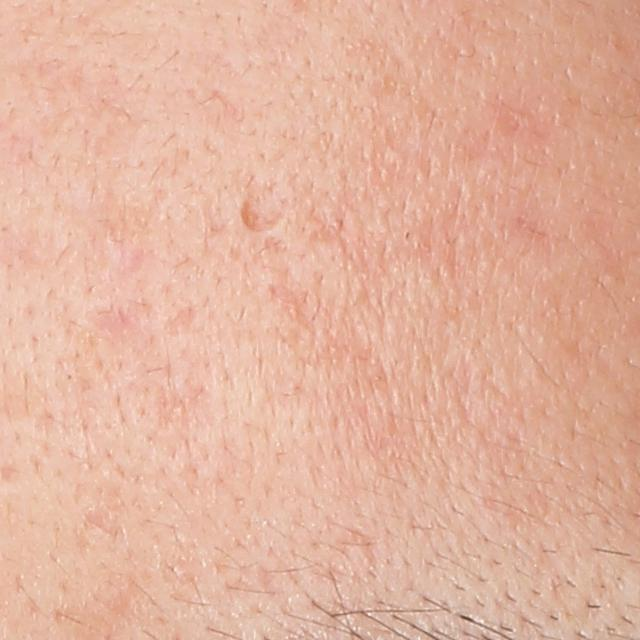atrophic_scar: (236, 179, 294, 239), (157, 298, 207, 340)
